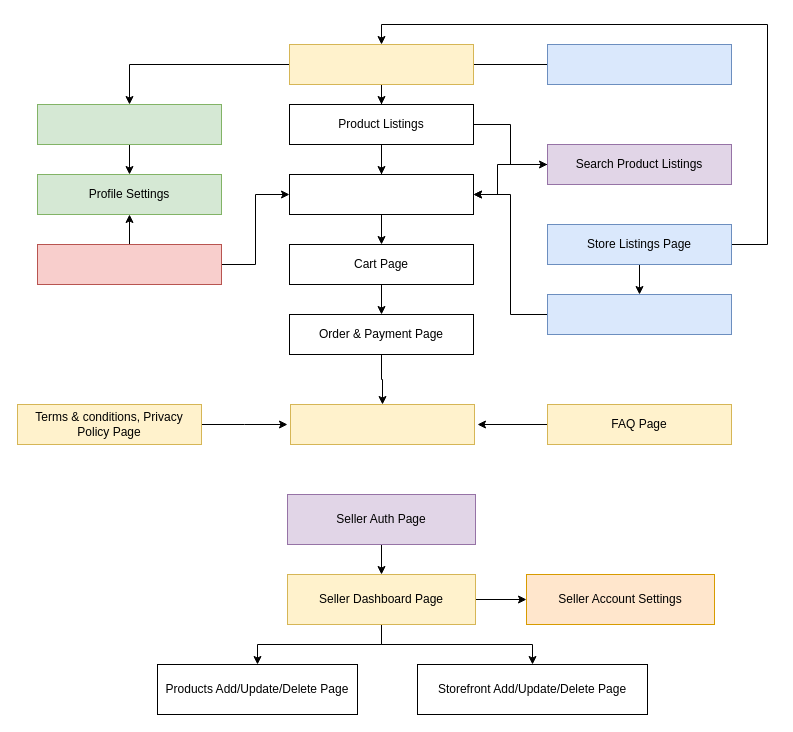
Some shapes in this 793 by 732 pixel diagram are drawn without their labels. Here are the shapes that lost their labels. From the top down, the centre of each, then its label:
(x=381, y=64): Home Page
(x=639, y=64): Auth Page
(x=129, y=124): Profille Page
(x=381, y=194): Product Details
(x=129, y=264): Favorites Page
(x=639, y=314): Store Page
(x=382, y=424): About Us Page
